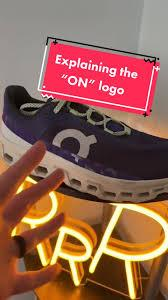OC_logo: (46, 118, 110, 170)
